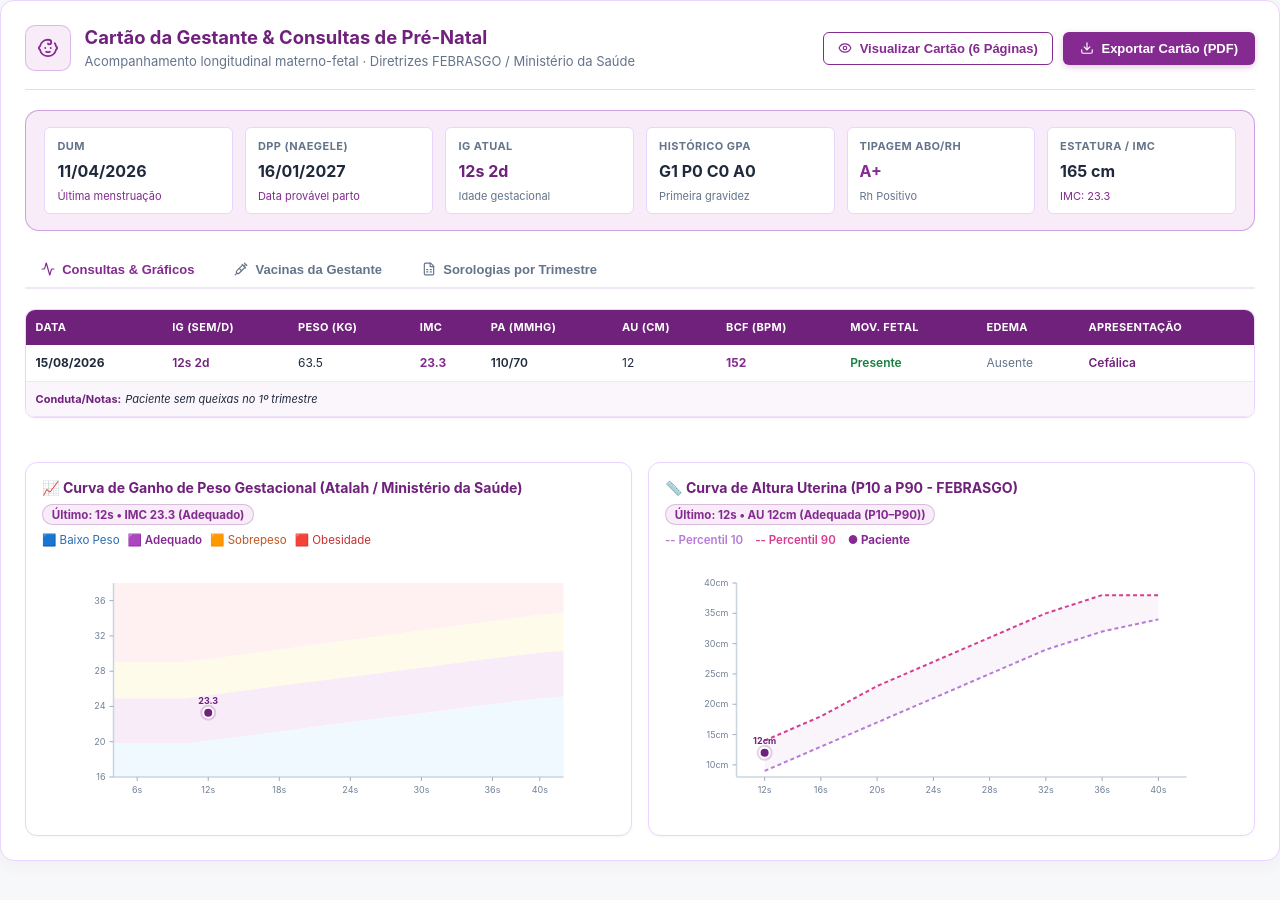
Test: PrenatalCardSection Component (SPEC-0035 / RN-007 / GO) › abre a modal do Cartão da Gestante (6 páginas) e renderiza as páginas canônicas do protótipo
The image size is (1280, 900).
Click the button "Visualizar Cartão (6 Páginas)": point(938, 48) [824, 32, 1053, 64]
(page scrolled)
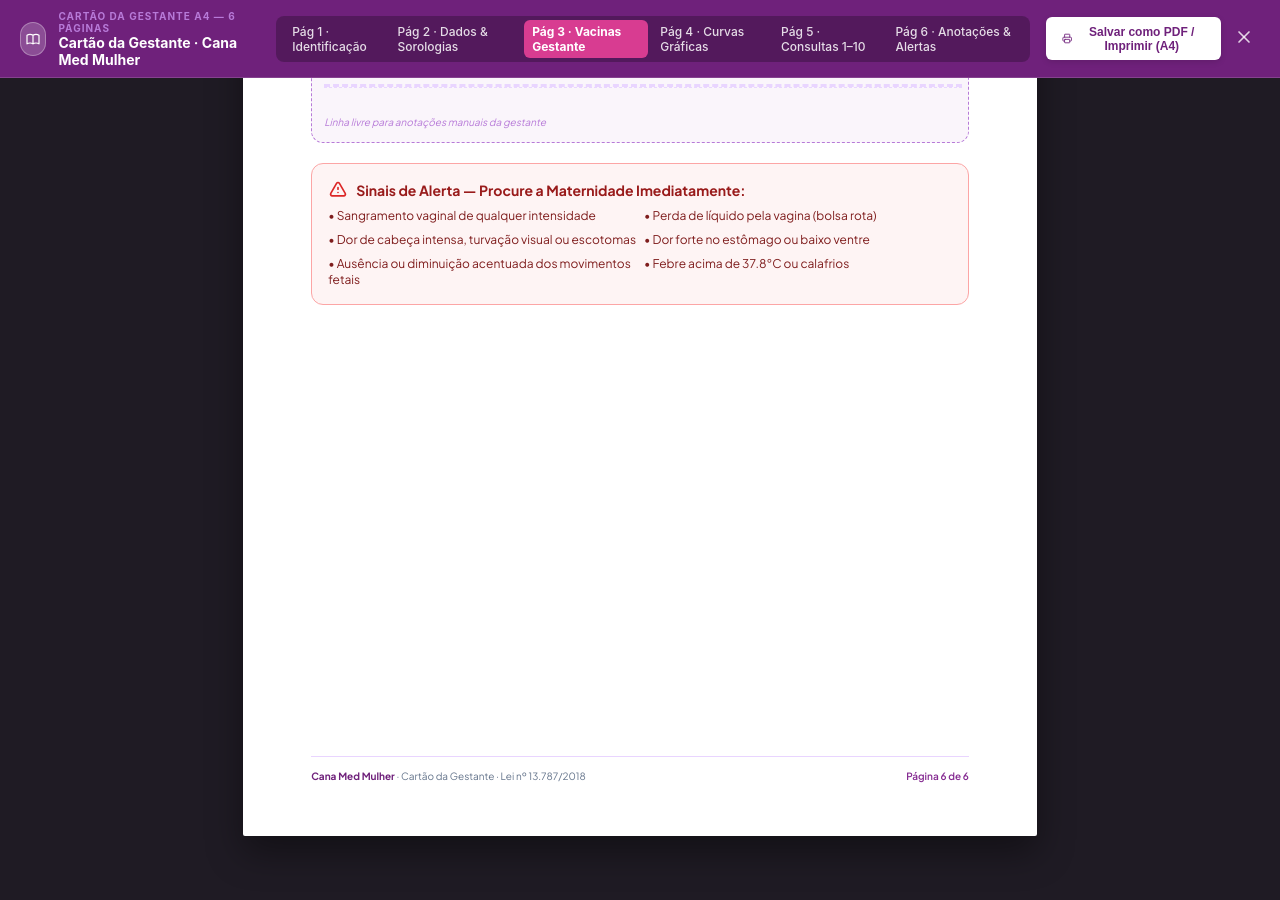
Expected: the text "Página 6 de 6" is shown, [906, 769, 969, 783]
